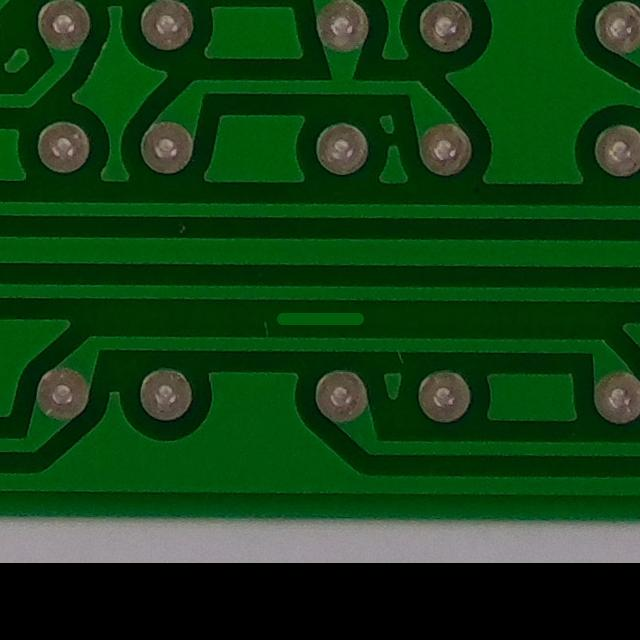spurious_copper: (261, 296, 379, 345)
